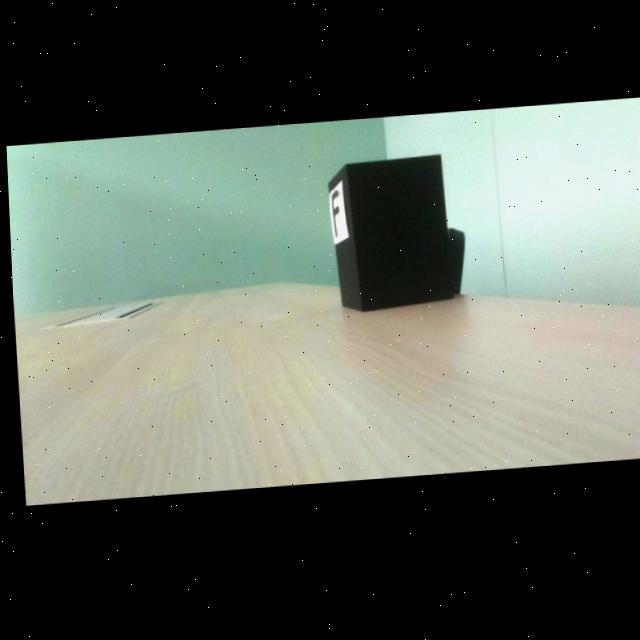F: (329, 194, 338, 241)
